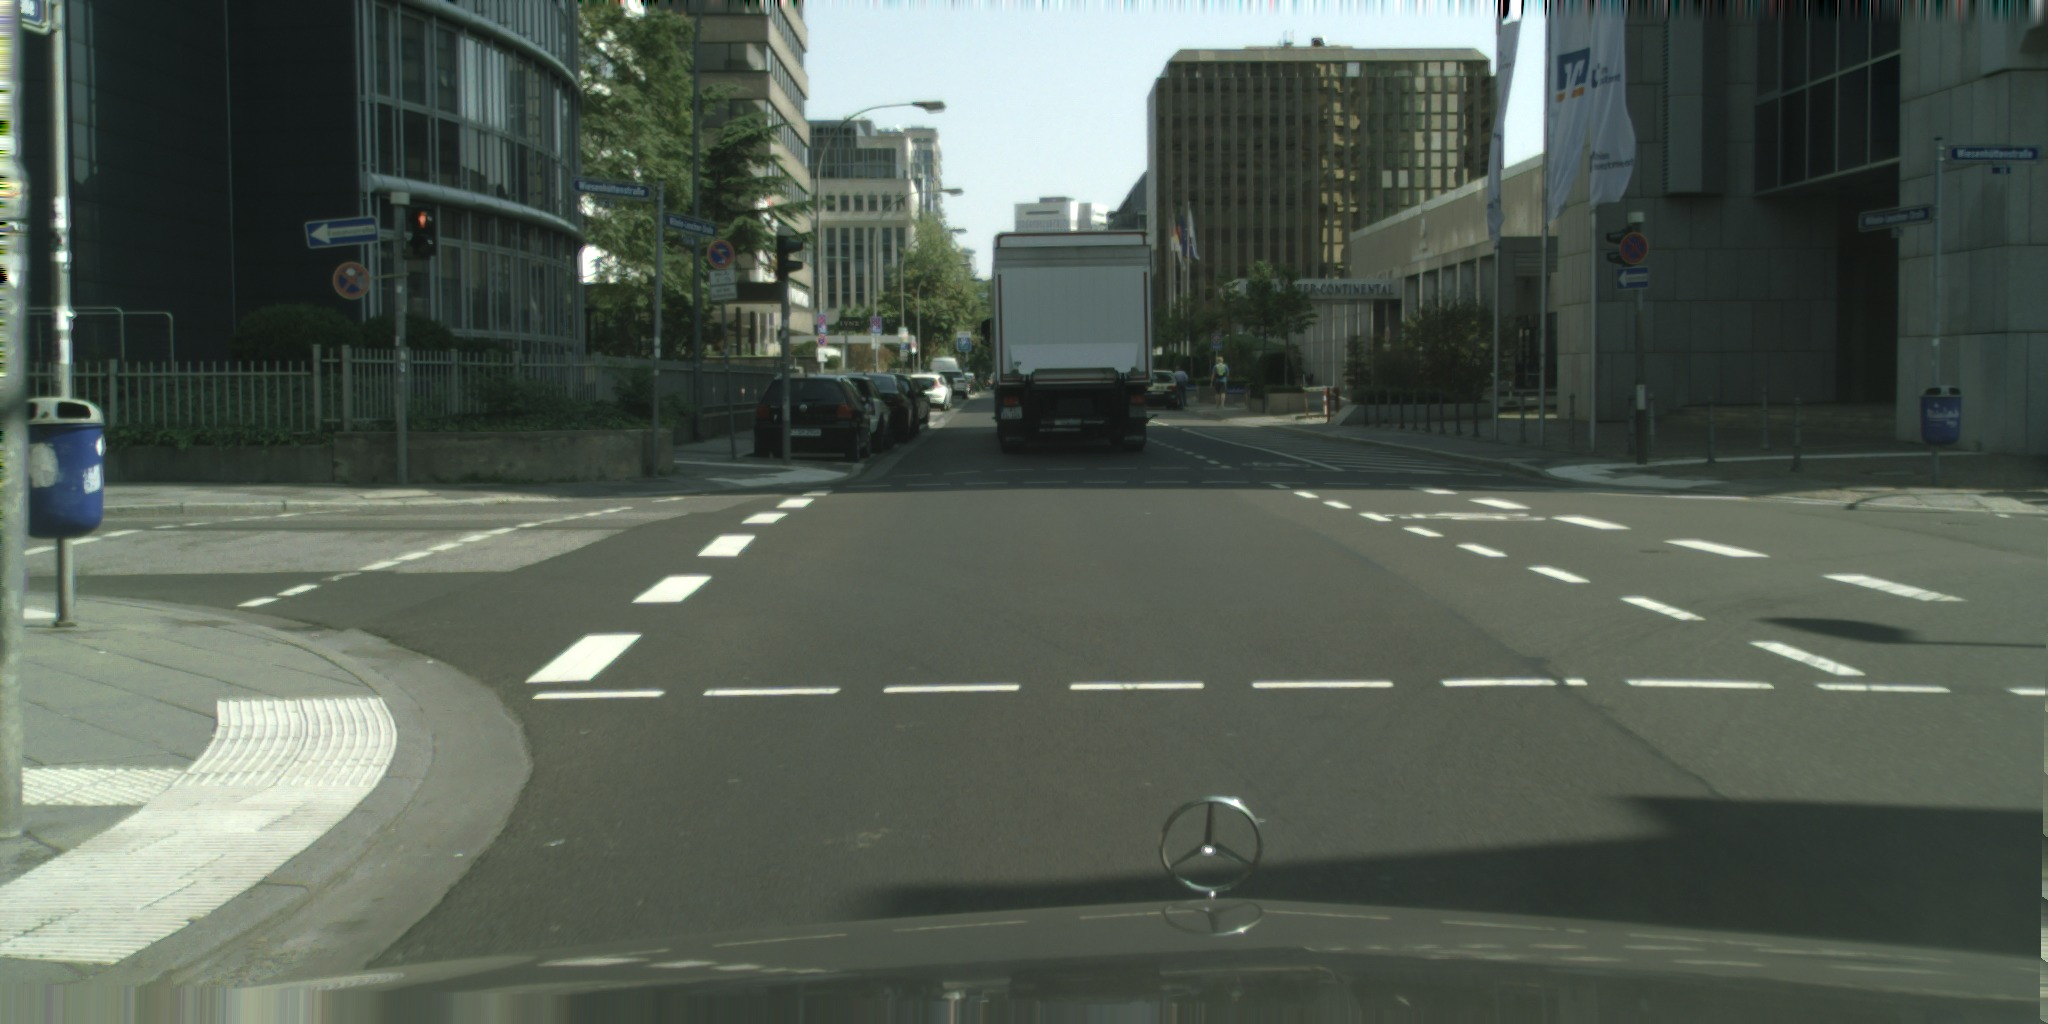car: (754, 372, 872, 464), (842, 373, 916, 443), (839, 374, 897, 455), (1135, 368, 1180, 411)
person: (1209, 356, 1230, 409), (1173, 365, 1190, 409)
truck: (991, 229, 1154, 456)
